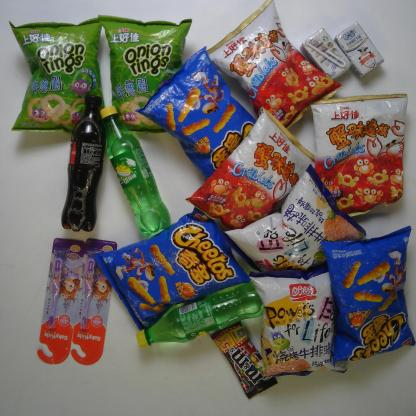Chocolate: (211, 319, 277, 401)
Drink: (99, 103, 172, 240), (135, 281, 265, 348), (58, 95, 107, 233)
Milk: (302, 28, 352, 79), (336, 25, 384, 76)
Personal Hygiene: (36, 236, 87, 364), (71, 237, 118, 365)
Puffed Food: (94, 199, 252, 330), (224, 164, 370, 290), (206, 0, 342, 134), (132, 45, 264, 180), (184, 108, 318, 234), (322, 227, 415, 364), (307, 92, 406, 219), (6, 15, 106, 136), (248, 264, 346, 383), (98, 14, 194, 135)
